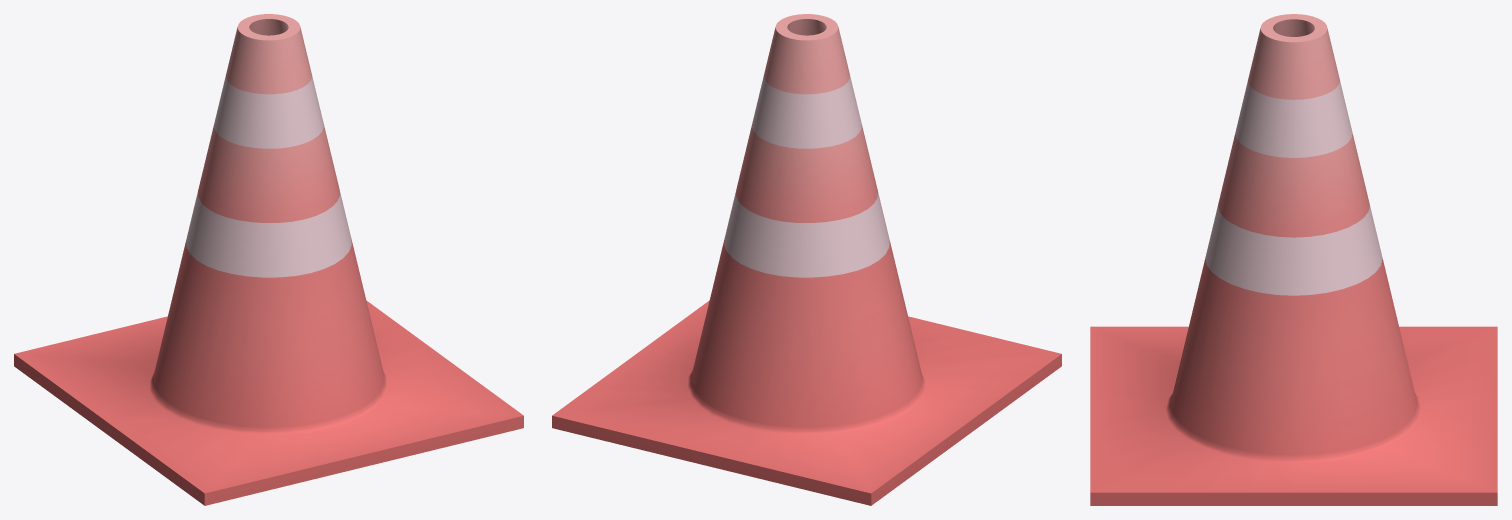
File: trafficcone.glb
3 renders of one model, left to right at view 1: azimuth 30°, elevation 25°; view 2: azimuth 150°, elevation 25°; view 3: azimuth 270°, elevation 25°, orthographic. The views are drawn at different scales.
Parts seen in each view (by area): view 1: trafficcone; view 2: trafficcone; view 3: trafficcone.
Boxes of the visible parts, box(x1,y1,x2,y2) form: trafficcone: box(14, 14, 523, 505); trafficcone: box(552, 14, 1061, 505); trafficcone: box(1090, 14, 1497, 505).
Bounding box in the file's own units: 0.3884 × 0.4307 × 0.4022.
1 material, 1 textured.
